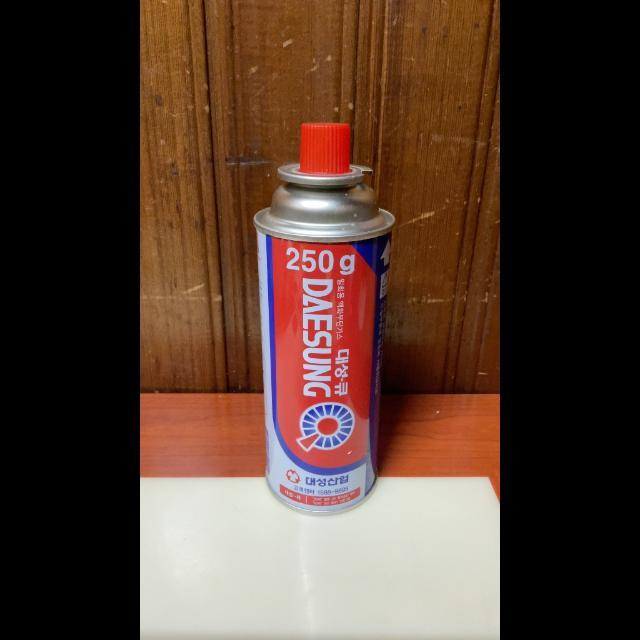chemical_spray_can: (238, 103, 402, 527)
